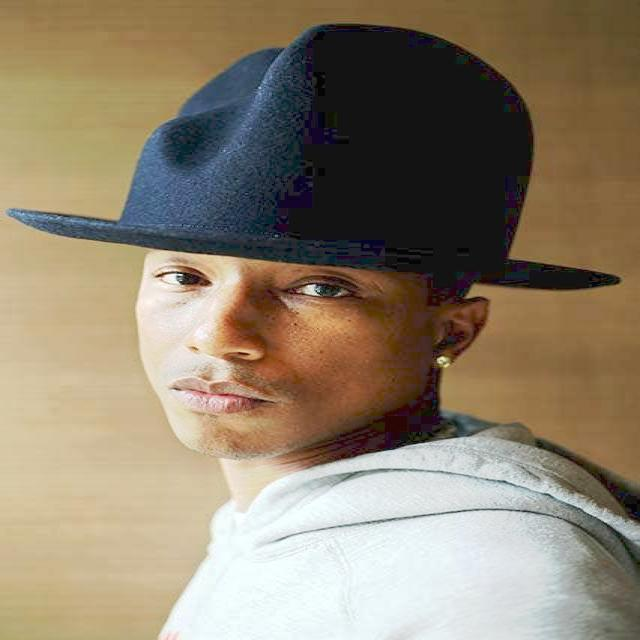TOPI: (2, 17, 636, 296)
